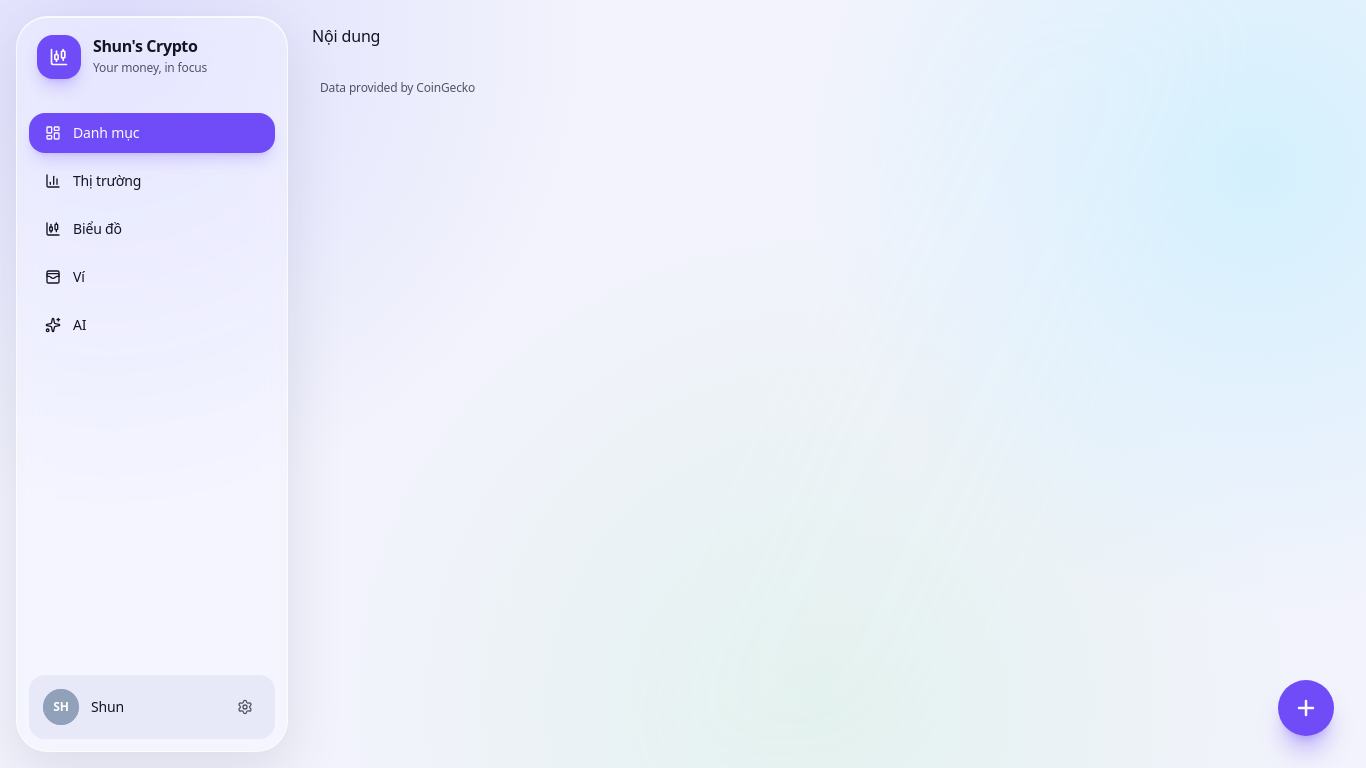
AppShell › renders floating add transaction button and keeps settings actions accessible inside settings modal
Check: the button named "Giao dịch" is shown, box [1278,680,1334,736]
Note: Open settings modal
What coordinates should you click on to do the following:
click the button named "Cài đặt"
I would click on:
 (245, 707)
Its box is [225,687,265,727].
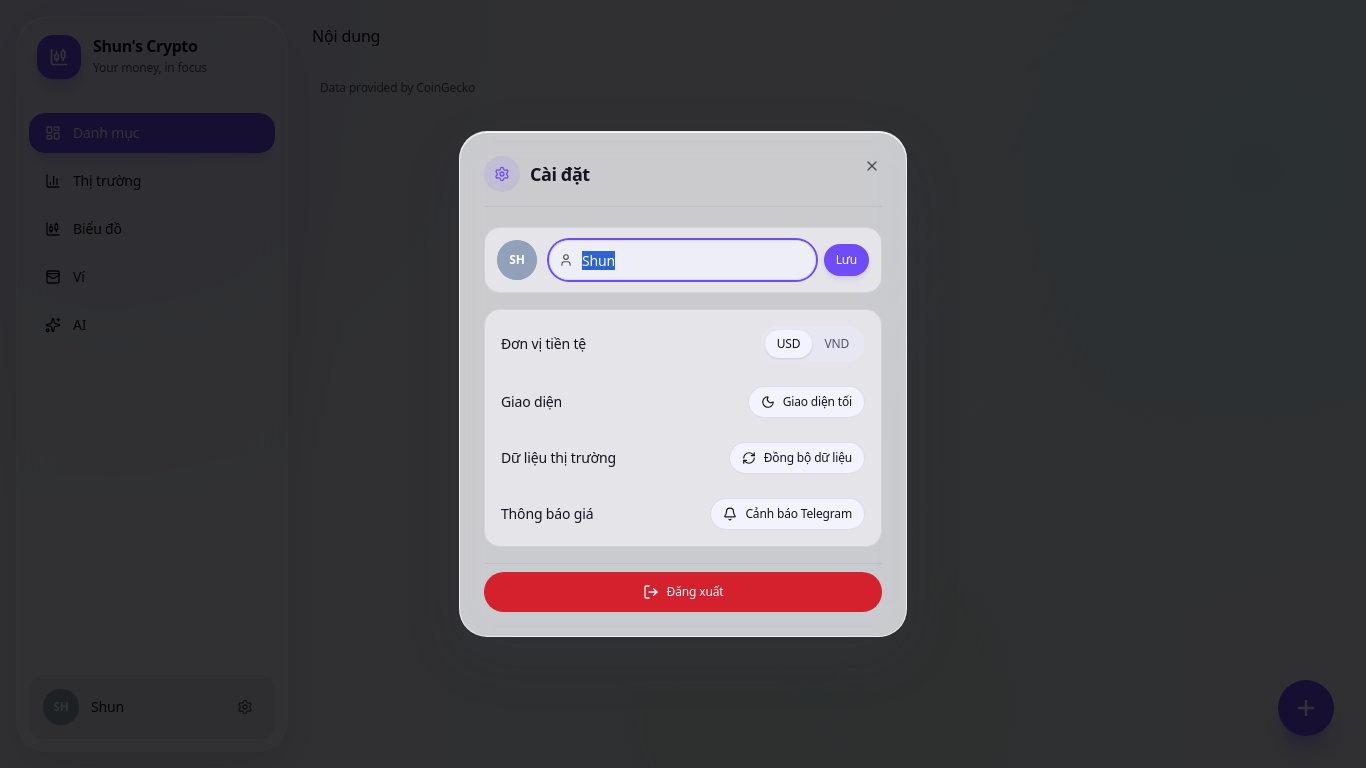
Check: the button "Cảnh báo Telegram" is shown, box [710,498,865,530]
Check: the button "Đồng bộ dữ liệu" is shown, box [729,442,865,474]
Check: the button "Đăng xuất" is shown, box [484,572,882,612]
